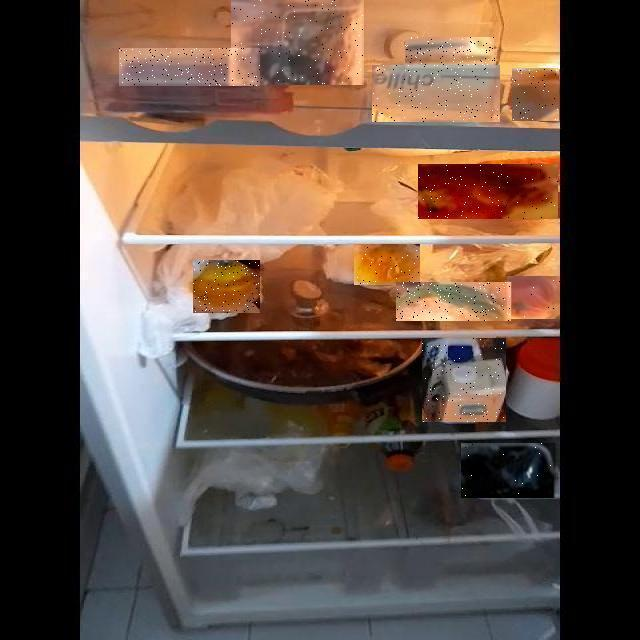broccoli: (183, 249, 640, 640)
carrot: (140, 110, 640, 328)
cheese: (122, 61, 622, 183)
milk: (169, 211, 640, 633)
